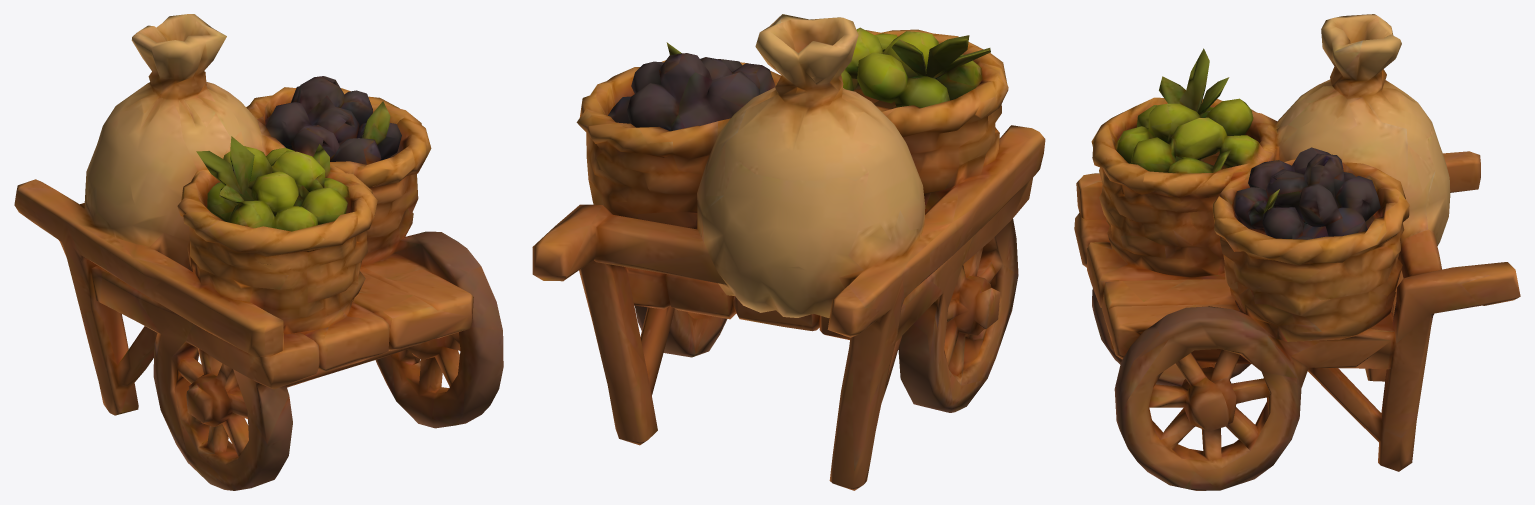
The model's file is cart.glb.
3 renders of one model, left to right at view 1: azimuth 30°, elevation 25°; view 2: azimuth 150°, elevation 25°; view 3: azimuth 270°, elevation 25°, orthographic. The views are drawn at different scales.
Parts seen in each view (by area): view 1: tripo_node_fcc01bc6-cef6-4269-a379-7fb575a3a9a9; view 2: tripo_node_fcc01bc6-cef6-4269-a379-7fb575a3a9a9; view 3: tripo_node_fcc01bc6-cef6-4269-a379-7fb575a3a9a9.
Part boxes in pixels (left/top/right/bottom): tripo_node_fcc01bc6-cef6-4269-a379-7fb575a3a9a9: left=14, top=14, right=503, bottom=490; tripo_node_fcc01bc6-cef6-4269-a379-7fb575a3a9a9: left=532, top=14, right=1045, bottom=490; tripo_node_fcc01bc6-cef6-4269-a379-7fb575a3a9a9: left=1074, top=14, right=1520, bottom=490.
Bounding box in the file's own units: 0.8116 × 0.9355 × 1.
Materials: 1 (1 with a texture image).
